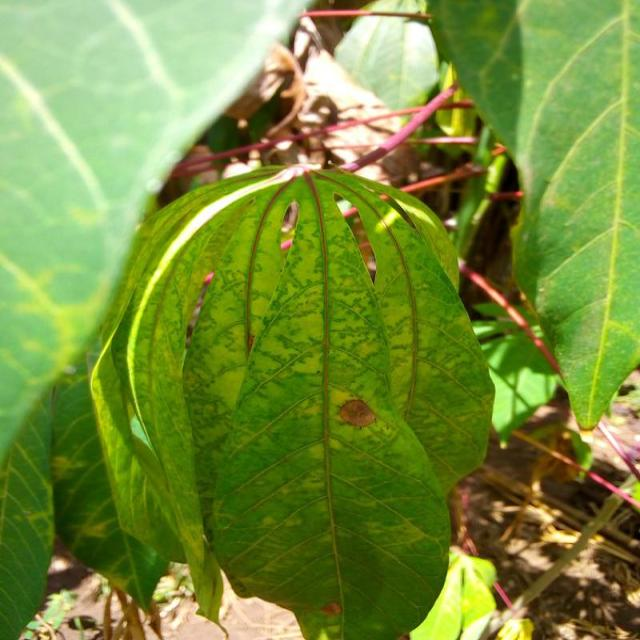cassava leaf: (89, 162, 496, 638), (424, 0, 638, 432)
